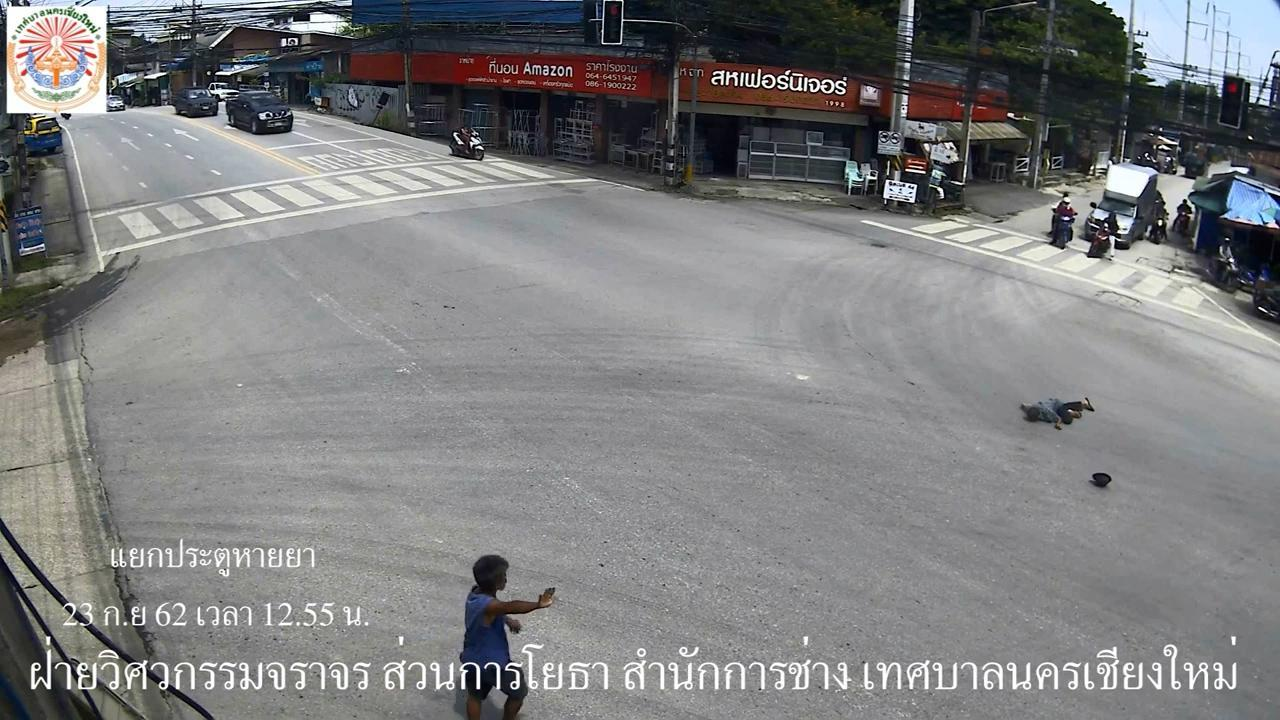accident: (1015, 391, 1100, 434)
